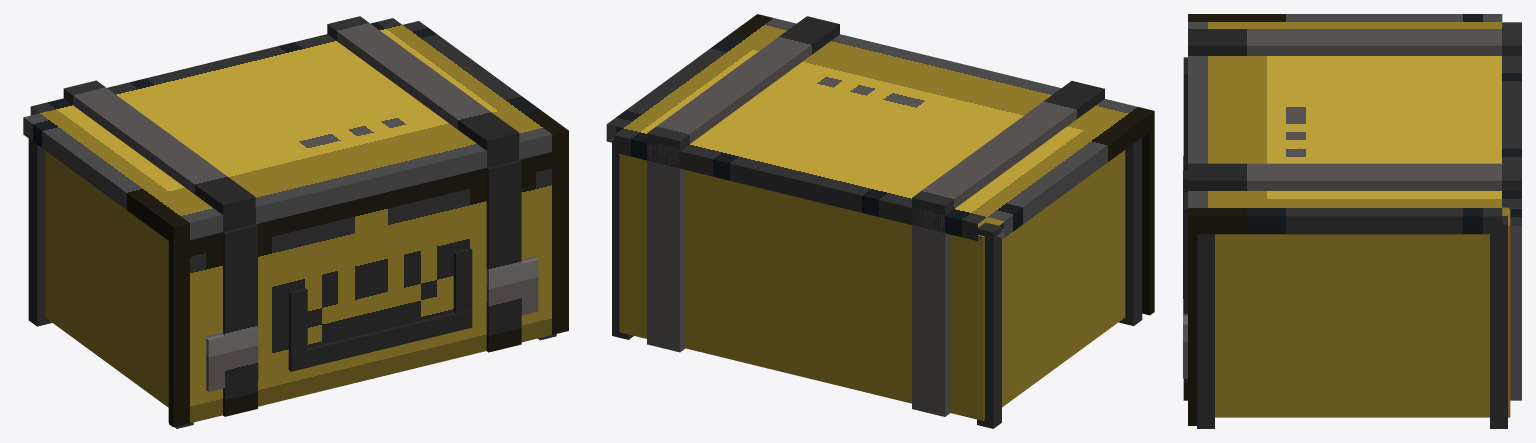
Rendered from CMU3DRMCSecureCaseChest.glb.
3 renders of one model, left to right at view 1: azimuth 30°, elevation 25°; view 2: azimuth 150°, elevation 25°; view 3: azimuth 270°, elevation 25°, orthographic. The views are drawn at different scales.
Visible parts, largest first — view 1: closed yellow chest lid, source chest front, yellow chest body, raised metal lid band (×2), front metal band (×2), projecting metal hasp (×2), horizontal carrying grip, reinforced chest corner, handle attachment (×2); view 2: yellow chest body, closed yellow chest lid, rear metal band (×2), raised metal lid band (×2), reinforced chest corner (×3), source chest front; view 3: closed yellow chest lid, yellow chest body, raised metal lid band (×2), reinforced chest corner (×2), rear metal band, source chest front, front metal band (×2), projecting metal hasp.
Boxes of the visible parts, box(x1,y1,x2,y2) form: closed yellow chest lid: box(23, 18, 568, 244); source chest front: box(169, 148, 568, 427); yellow chest body: box(45, 151, 168, 407); raised metal lid band (×2): box(63, 16, 519, 214); front metal band (×2): box(223, 160, 521, 416); projecting metal hasp (×2): box(206, 258, 538, 391); horizontal carrying grip: box(288, 310, 472, 371); reinforced chest corner: box(28, 139, 51, 326); handle attachment (×2): box(288, 248, 472, 353); yellow chest body: box(619, 150, 1125, 420); closed yellow chest lid: box(606, 14, 1154, 241); rear metal band (×2): box(647, 143, 950, 416); raised metal lid band (×2): box(647, 16, 1104, 215); reinforced chest corner (×3): box(612, 137, 1142, 428); source chest front: box(1142, 128, 1154, 315); closed yellow chest lid: box(1188, 14, 1521, 234); yellow chest body: box(1215, 207, 1510, 417); raised metal lid band (×2): box(1188, 29, 1521, 190); reinforced chest corner (×2): box(1197, 216, 1507, 428); rear metal band: box(1509, 207, 1521, 400); source chest front: box(1188, 234, 1197, 425); front metal band (×2): box(1183, 57, 1187, 400); projecting metal hasp: box(1183, 299, 1187, 378).
Size of the model in its own units: 0.75 by 0.393 by 0.5312.
Materials: 10 (6 with a texture image).
